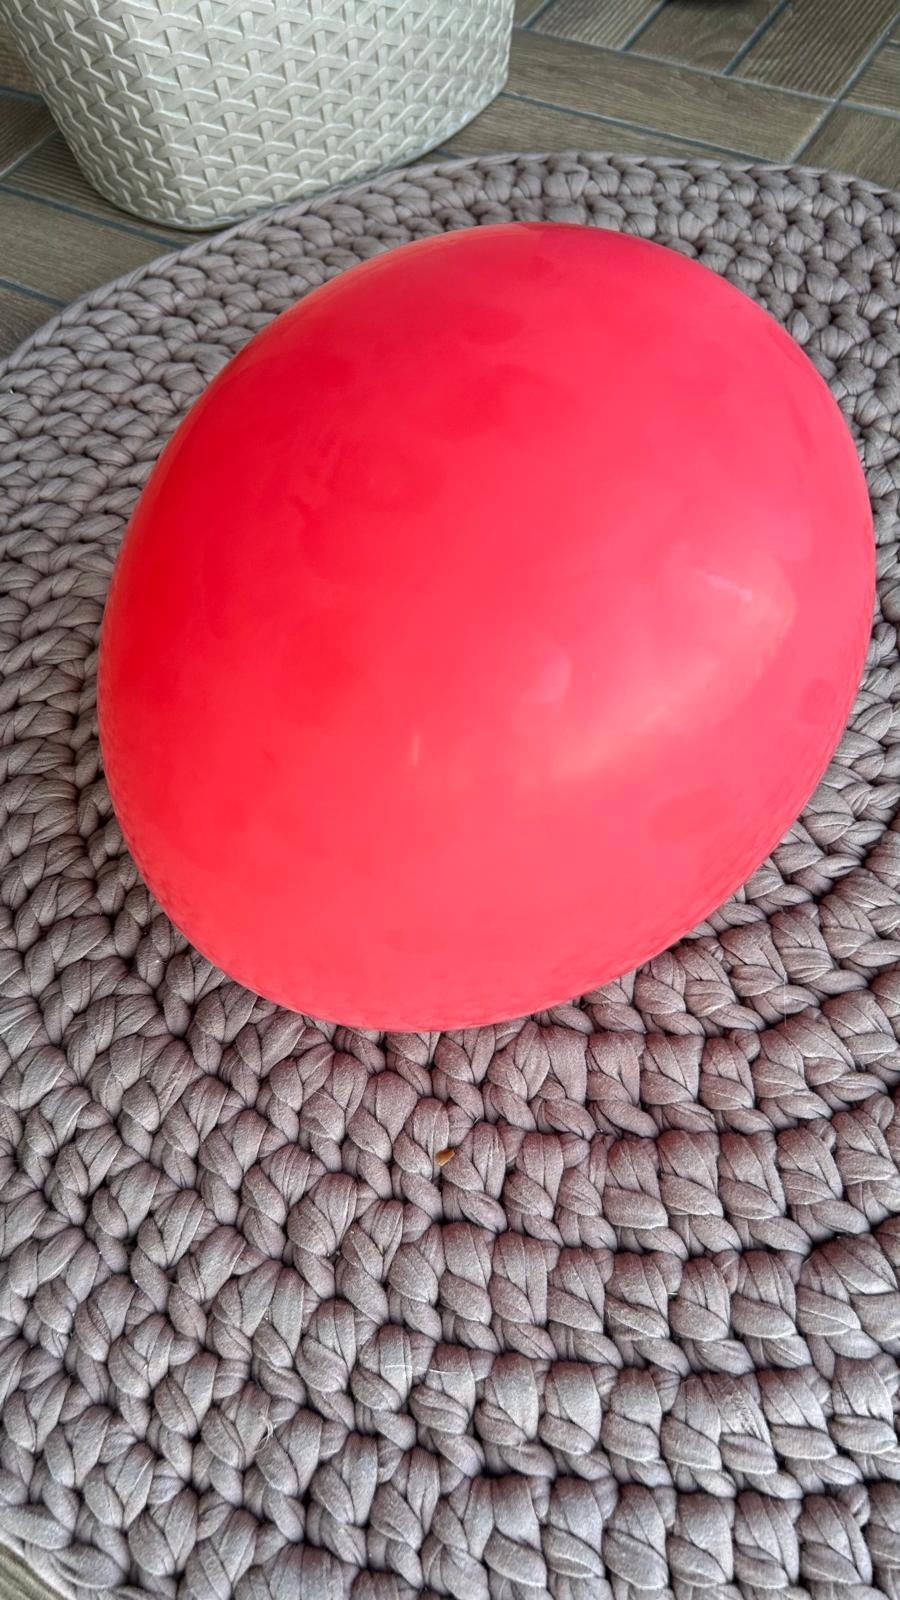red: (87, 211, 879, 1043)
